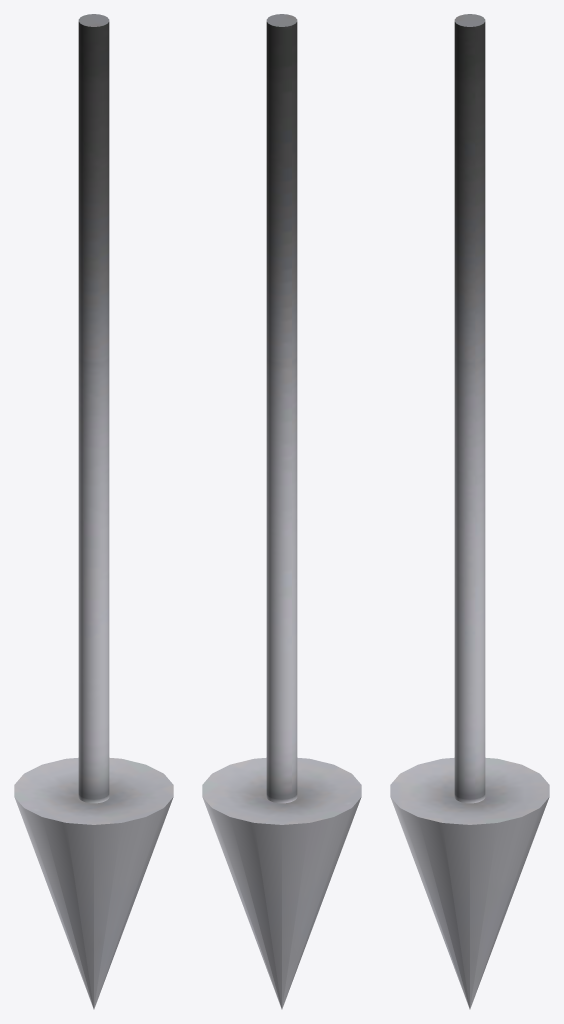
The model's file is LightDiffuse.DAE.
3 renders of one model, left to right at view 1: azimuth 30°, elevation 25°; view 2: azimuth 150°, elevation 25°; view 3: azimuth 270°, elevation 25°, orthographic.
Parts seen in each view (by area): view 1: Arrow_PIVOT; view 2: Arrow_PIVOT; view 3: Arrow_PIVOT.
Boxes of the visible parts, x1,y1,x2,y2 form: Arrow_PIVOT: (14, 14, 173, 1009); Arrow_PIVOT: (202, 14, 361, 1009); Arrow_PIVOT: (390, 14, 549, 1009).
Bounding box in the file's own units: 0.197 × 0.194 × 1.33.
Materials: 1 (1 with a texture image).
